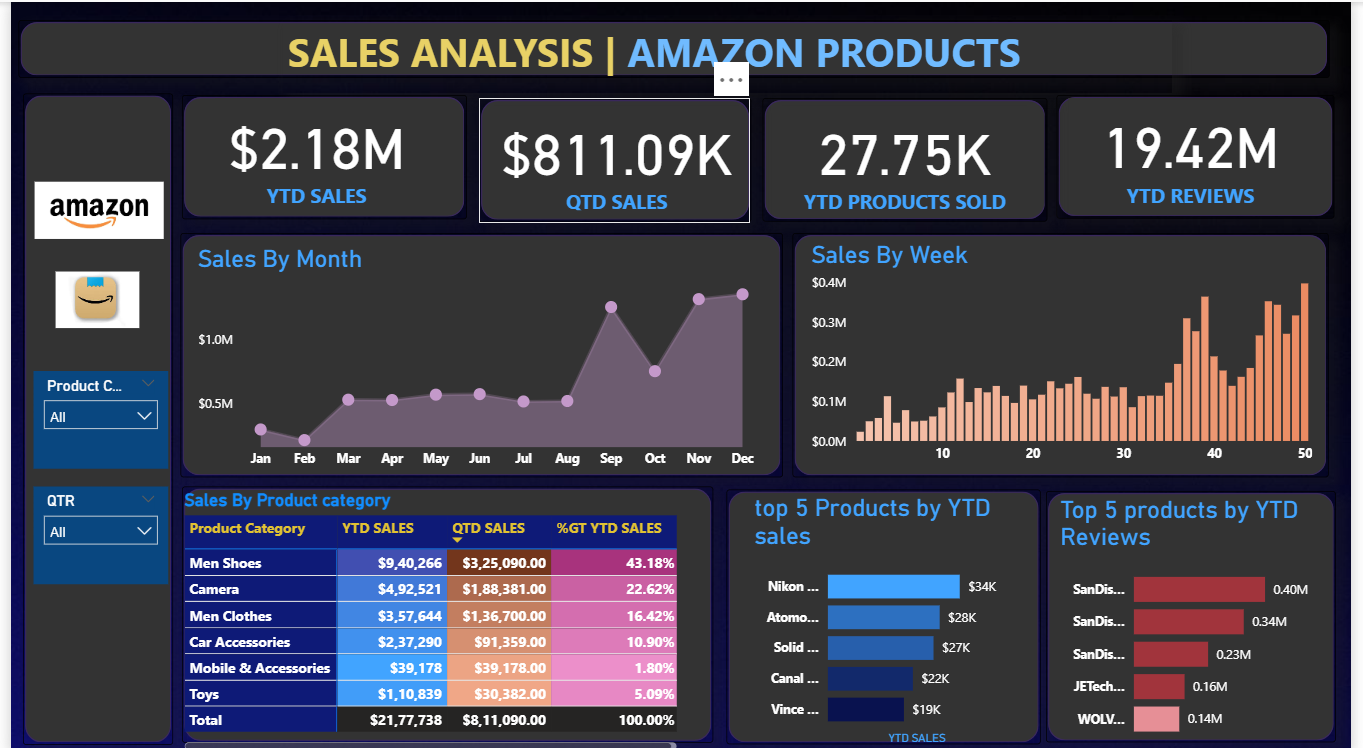

This screenshot's page, from the dashboard's own definition file:
{"tool":"powerbi","page":{"name":"Page 1","canvas":[1280,720],"ordinal":0},"visuals":[{"type":"shape","box":[6.7,16.7,1251.7,55],"z":0},{"type":"textbox","box":[259.3,17.5,849.4,70],"z":1000},{"type":"shape","box":[11.7,86.7,143.3,621.7],"z":2000},{"type":"shape","box":[163.3,88.3,271.7,118.3],"z":3000},{"type":"card","fields":{"Values":["Amazon_Data.YTD SALES"]},"box":[195,91.7,193.3,106.7],"z":4000},{"type":"shape","box":[998.9,89.1,265.6,117.7],"z":5000},{"type":"shape","box":[717.4,92.3,272,117.7],"z":6000},{"type":"shape","box":[446.7,91.7,260,118.3],"z":7000},{"type":"card","fields":{"Values":["Amazon_Data.QTD SALES"]},"box":[461.3,98.6,233.8,105],"z":8000},{"type":"card","fields":{"Values":["Amazon_Data.YTD PRODUCTS SOLD"]},"box":[736.5,98.6,233.8,105],"z":9000},{"type":"card","fields":{"Values":["Amazon_Data.YTD REVIEWS"]},"box":[1010,92.3,232.2,106.6],"z":10000},{"type":"shape","box":[161.7,220,575,233.3],"z":11000},{"type":"areaChart","title":"Sales By Month","fields":{"Category":["DATE_TABLE.MONTH_NAME"],"Y":["Sum(Amazon_Data.Price(Dollar))"]},"box":[173.3,231.7,546.7,221.7],"z":12000},{"type":"shape","box":[746.7,220,511.7,233.3],"z":13000},{"type":"columnChart","title":"Sales By Week ","fields":{"Category":["DATE_TABLE.WEEK NUMBER"],"Y":["Sum(Amazon_Data.Price(Dollar))"]},"box":[758.7,227.5,488.3,221.1],"z":14000},{"type":"shape","box":[163.8,462.9,507.4,245],"z":15000},{"type":"pivotTable","title":"Sales By Product category","fields":{"Rows":["Amazon_Data.Product Category"],"Values":["Amazon_Data.YTD SALES1","Amazon_Data.QTD SALES","Amazon_Data.YTD SALES"]},"box":[160,465,480,255],"z":16000},{"type":"shape","box":[683.3,465,300,243.3],"z":17000},{"type":"shape","box":[987.8,467.6,276.8,240.2],"z":18000},{"type":"clusteredBarChart","title":"top 5 Products by YTD sales","fields":{"Category":["Amazon_Data.Product Description"],"Y":["Amazon_Data.YTD SALES"]},"box":[705,470,250,243.3],"z":19000},{"type":"clusteredBarChart","title":"Top 5 products  by YTD Reviews","fields":{"Category":["Amazon_Data.Product Description"],"Y":["Amazon_Data.YTD REVIEWS"]},"box":[996.7,471.7,250,243.3],"z":20000},{"type":"slicer","fields":{"Values":["Amazon_Data.Product Category"]},"box":[21.7,351.7,128.3,93.3],"z":21000},{"type":"slicer","fields":{"Values":["DATE_TABLE.QTR"]},"box":[21.7,463.3,128.3,93.3],"z":22000},{"type":"image","box":[16.7,138.3,133.3,120],"z":23000},{"type":"image","box":[36.6,232.2,90.7,105],"z":24000}]}

Visuals, with their boxes in screenshot pixels (x1, y1, x2, y2), scaled from the page's 1280x720 canvas onto the 1363x748 screenshot:
shape: Rect(7, 17, 1340, 74)
textbox: Rect(276, 18, 1181, 91)
shape: Rect(12, 90, 165, 736)
shape: Rect(174, 92, 463, 215)
card - Amazon_Data.YTD SALES: Rect(208, 95, 413, 206)
shape: Rect(1064, 93, 1346, 215)
shape: Rect(764, 96, 1054, 218)
shape: Rect(476, 95, 753, 218)
card - Amazon_Data.QTD SALES: Rect(491, 102, 740, 212)
card - Amazon_Data.YTD PRODUCTS SOLD: Rect(784, 102, 1033, 212)
card - Amazon_Data.YTD REVIEWS: Rect(1075, 96, 1323, 207)
shape: Rect(172, 229, 784, 471)
"Sales By Month" areaChart: Rect(185, 241, 767, 471)
shape: Rect(795, 229, 1340, 471)
"Sales By Week " columnChart: Rect(808, 236, 1328, 466)
shape: Rect(174, 481, 715, 735)
"Sales By Product category" pivotTable: Rect(170, 483, 682, 747)
shape: Rect(728, 483, 1047, 736)
shape: Rect(1052, 486, 1347, 735)
"top 5 Products by YTD sales" clusteredBarChart: Rect(751, 488, 1017, 741)
"Top 5 products  by YTD Reviews" clusteredBarChart: Rect(1061, 490, 1328, 743)
slicer - Amazon_Data.Product Category: Rect(23, 365, 160, 462)
slicer - DATE_TABLE.QTR: Rect(23, 481, 160, 578)
image: Rect(18, 144, 160, 268)
image: Rect(39, 241, 136, 350)
